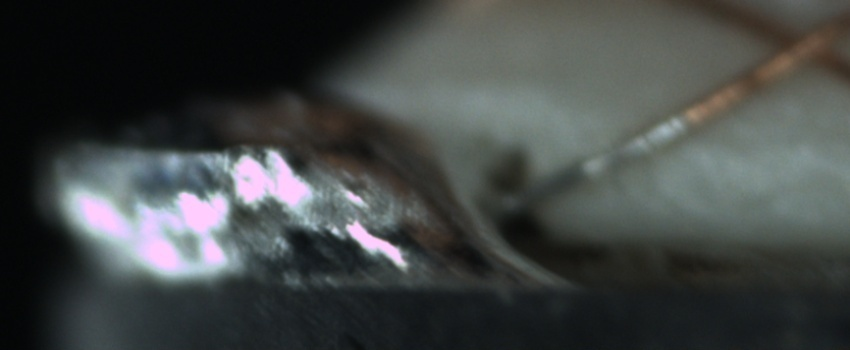CL: (751, 6, 845, 82)
TS: (501, 112, 692, 215)
